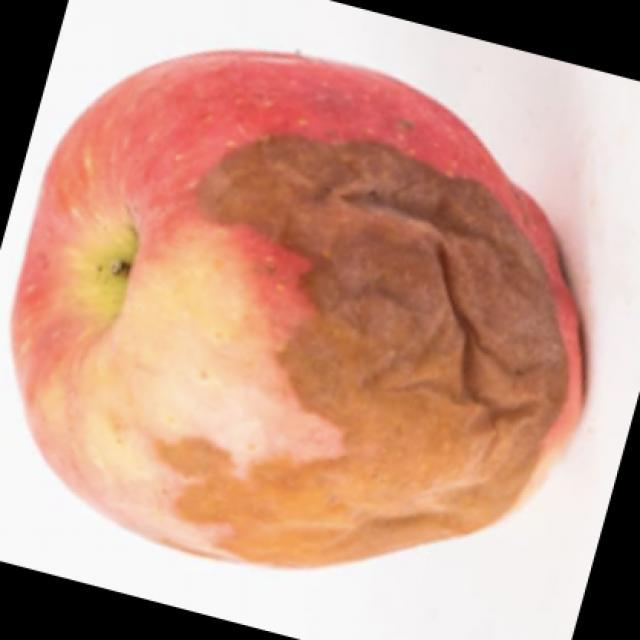Rotten: (30, 55, 593, 553)
